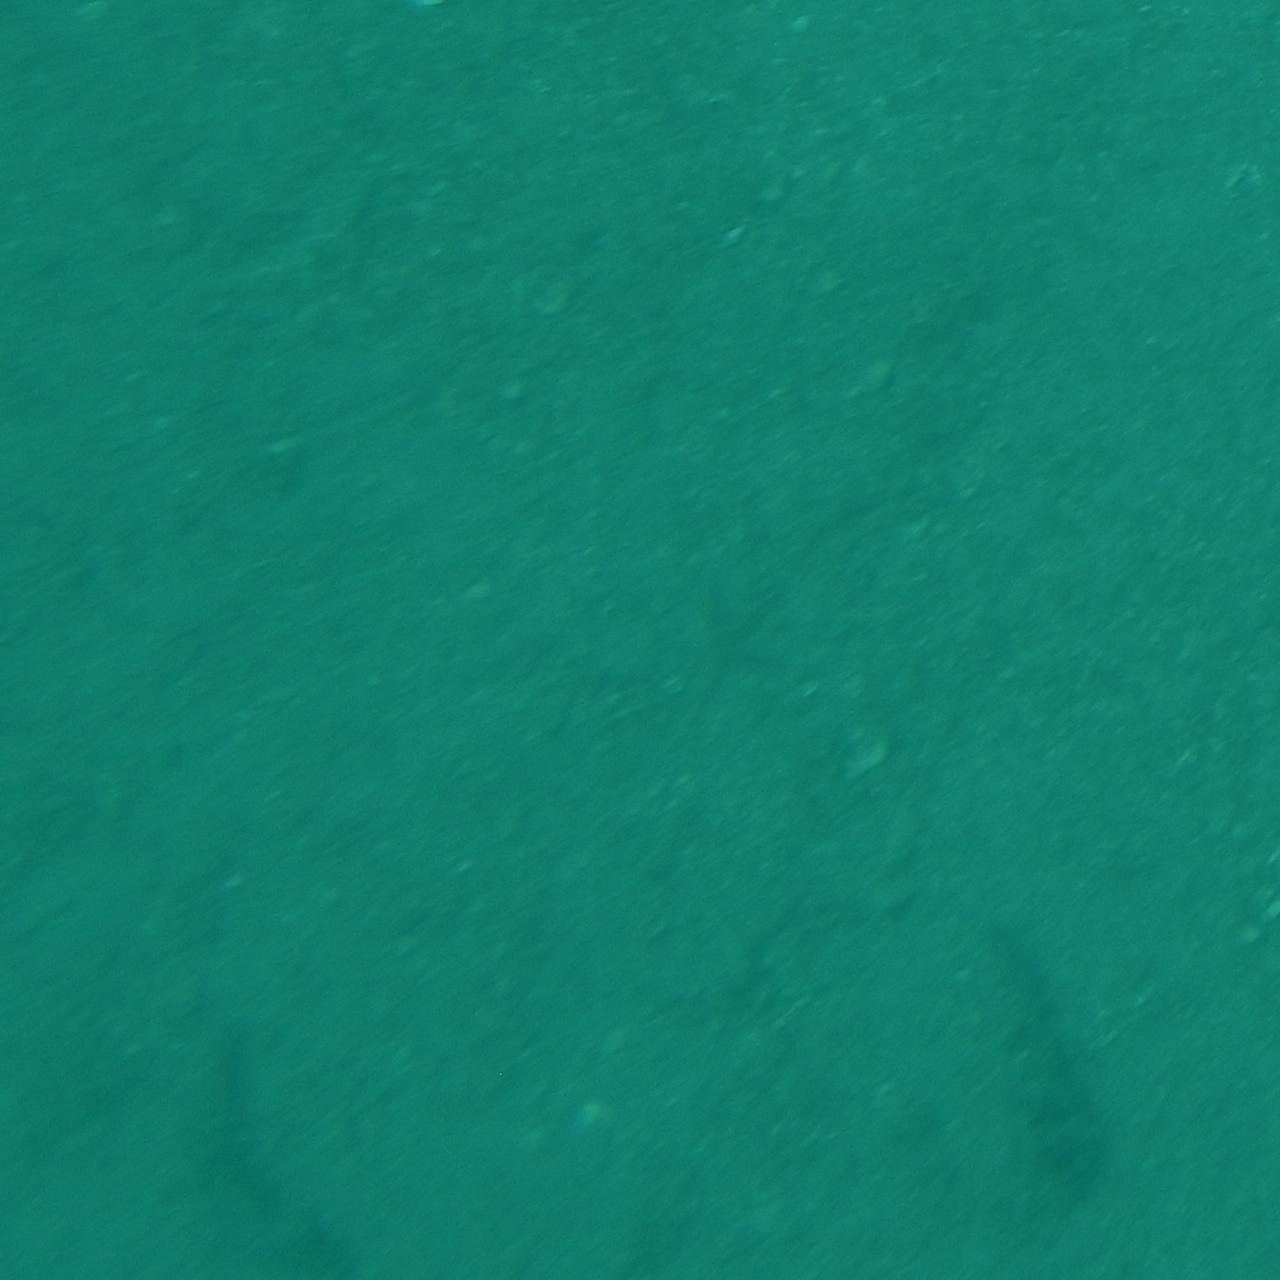Holothuria tubulosa: (917, 928, 1133, 1210), (163, 998, 347, 1279)
